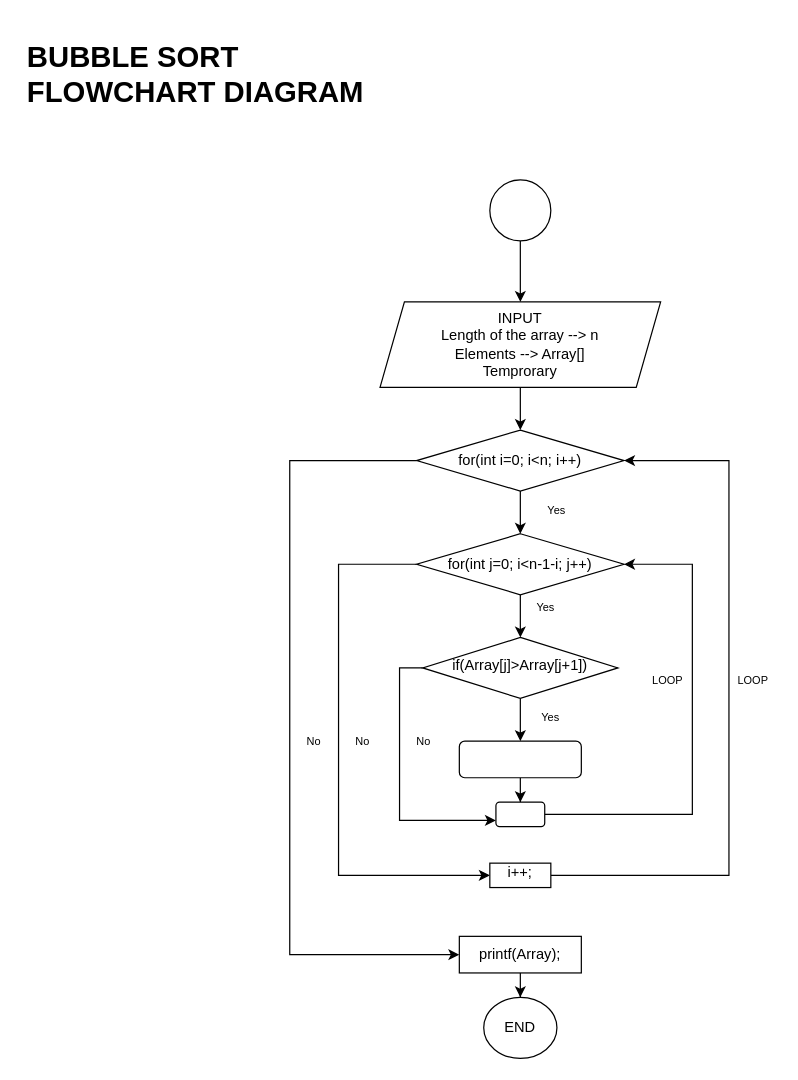
The diagram is 798 pixels wide and 1080 high, and some of its shapes have lost their labels. Each missing label, with the box of its shape:
j++;: (495, 801, 545, 827)
START: (489, 179, 551, 241)
swap(A[j], A[j+1]);: (458, 740, 581, 778)
